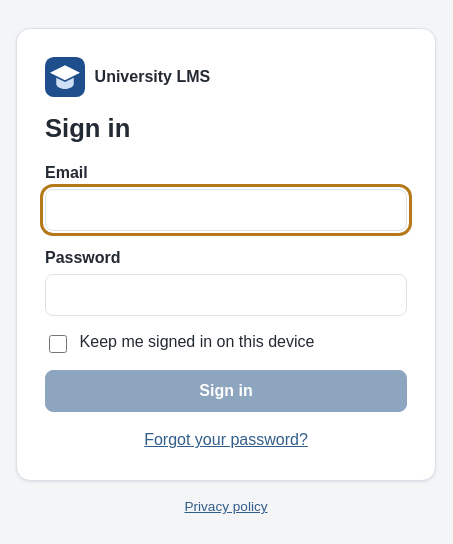
Test: signing in › shows the server’s reason when the sign-in is refused
Type "ada@example.test" into the field labelled "Email" at {"x": 226, "y": 210}, box [45,189,407,231]
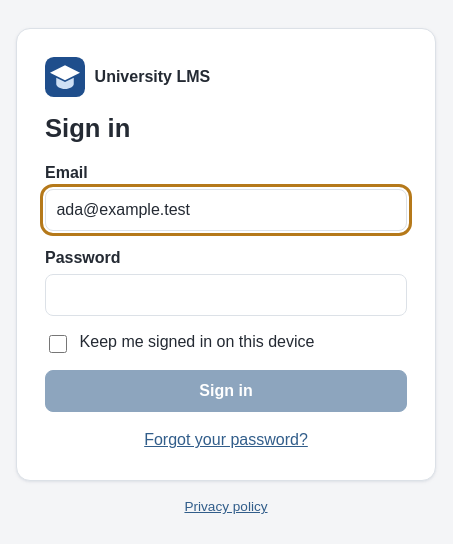
Type "wrong-password-here" into the password field labelled "Password" at {"x": 226, "y": 295}, box [45,274,407,316]
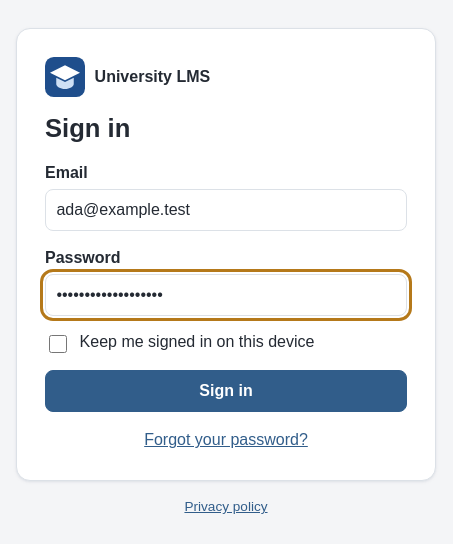
Click the button "Sign in" at {"x": 226, "y": 391}, box [45,370,407,412]
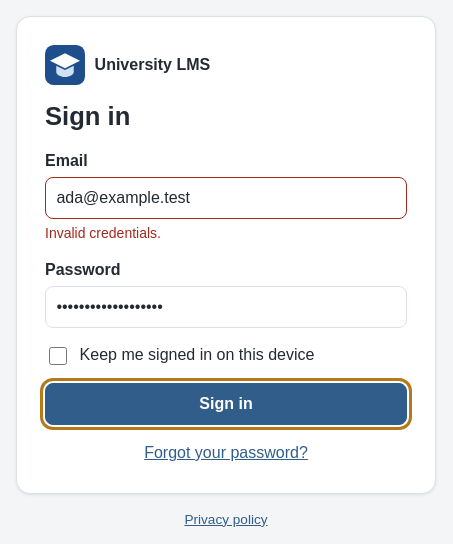
Expected: the text "Invalid credentials." is shown, [45,225,161,241]
